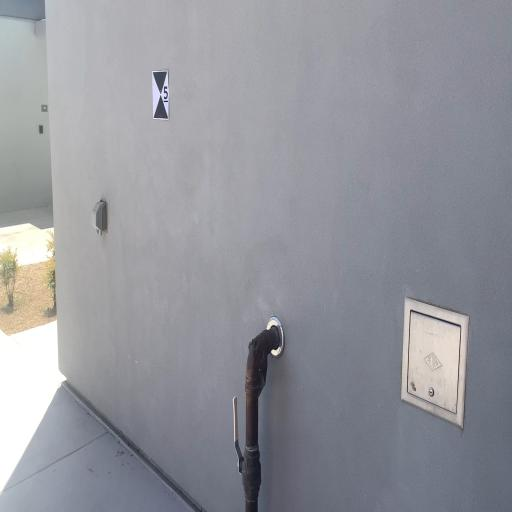target5: (152, 70, 169, 120)
